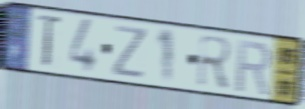1: (154, 27, 174, 87)
4: (68, 15, 99, 78)
R: (234, 37, 273, 97), (196, 32, 235, 91)
T: (36, 12, 64, 71)
Z: (110, 23, 150, 81)
